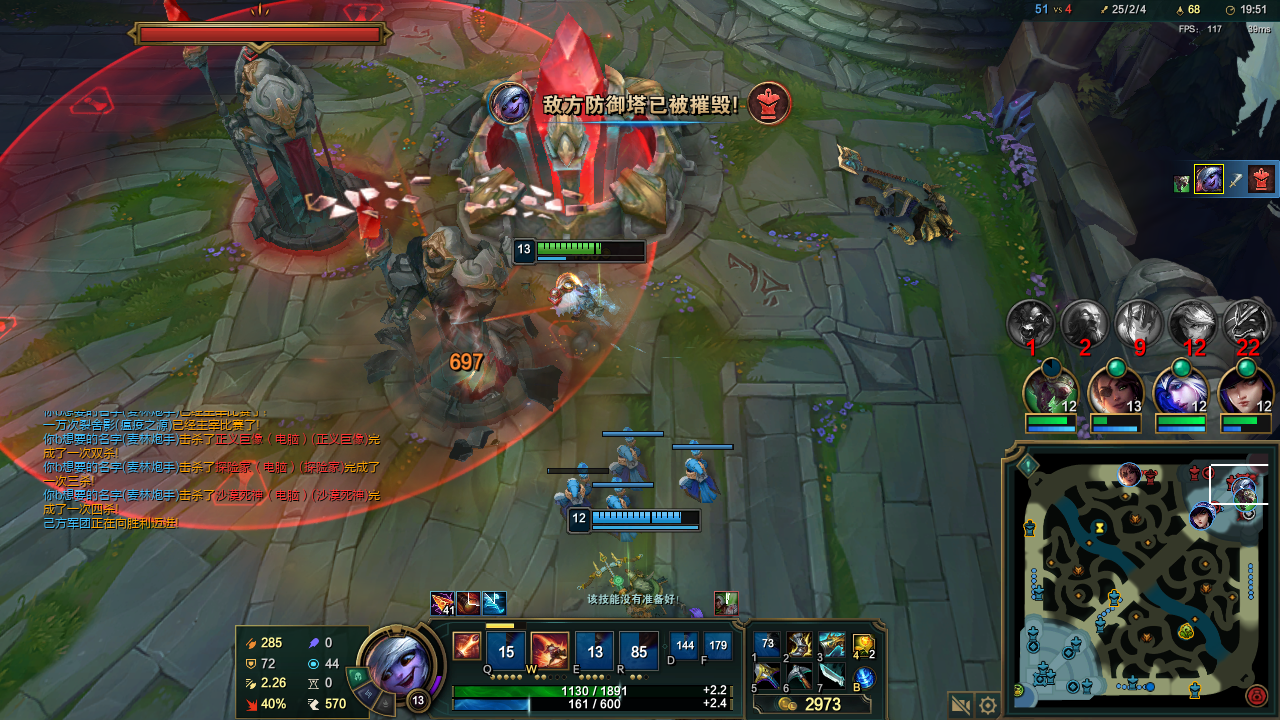DFDSJ: (463, 52, 674, 244)
DFFYT: (202, 44, 371, 256), (377, 232, 531, 409)
WFXB: (600, 422, 659, 490), (674, 449, 730, 509), (546, 458, 593, 517), (601, 480, 639, 549)
